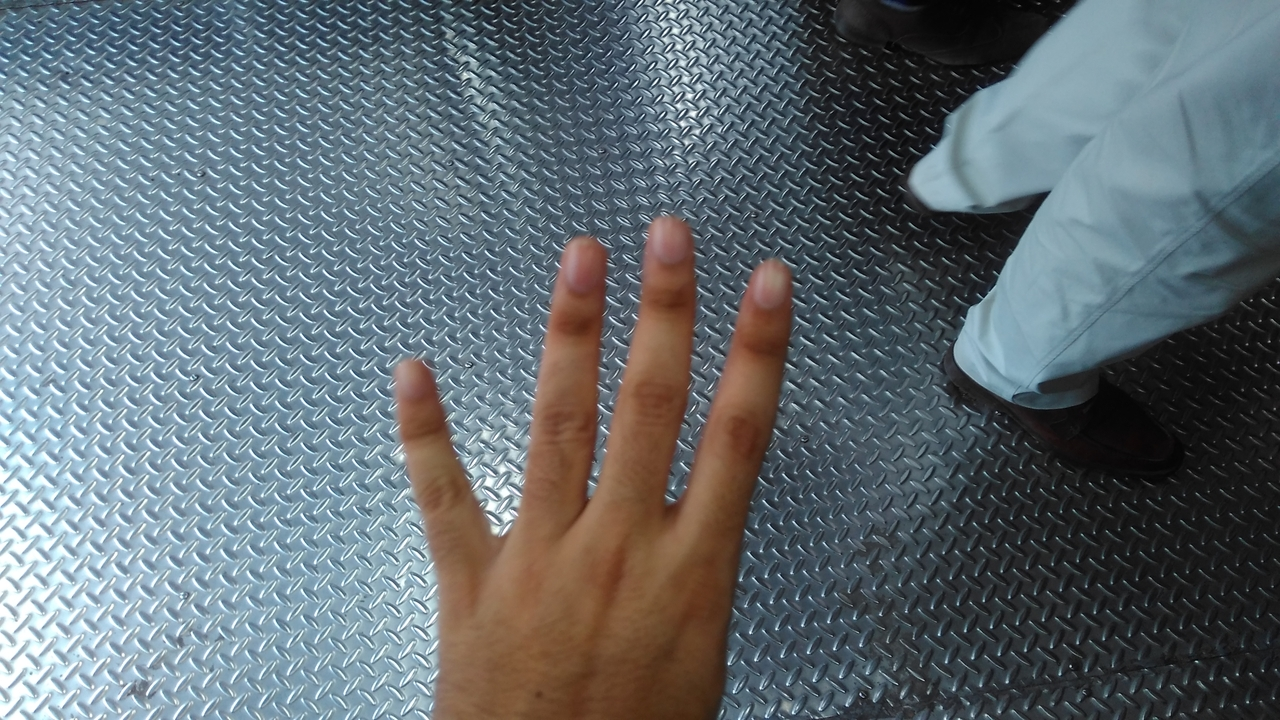fingertip: (732, 248, 802, 318), (634, 212, 702, 274), (552, 226, 612, 290), (384, 350, 444, 404)
